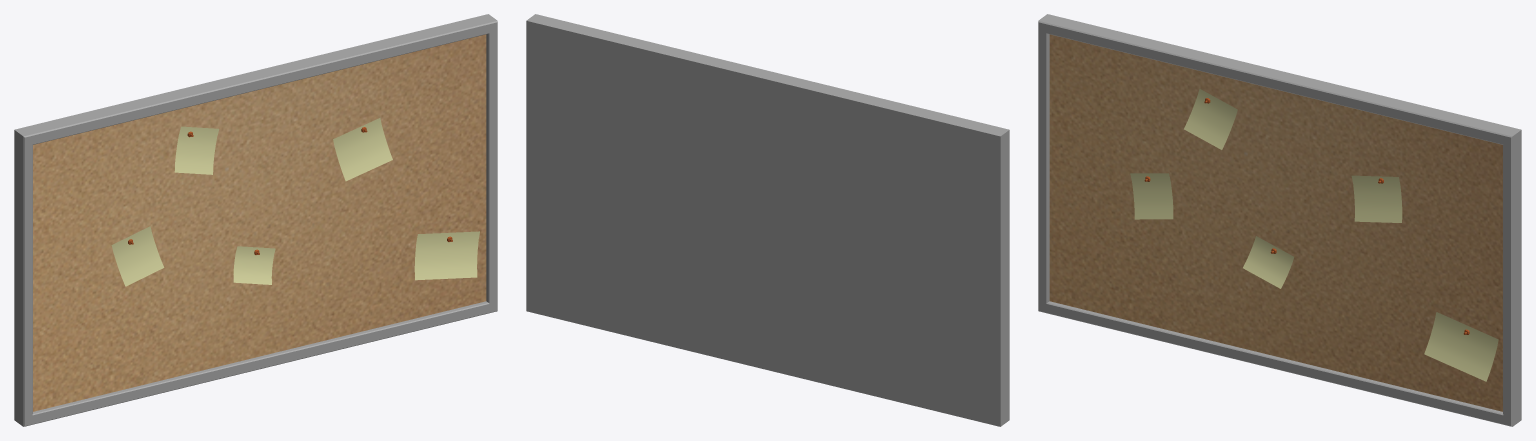
The model's file is Lavagnetta.fbx.
3 renders of one model, left to right at view 1: azimuth 30°, elevation 25°; view 2: azimuth 150°, elevation 25°; view 3: azimuth 330°, elevation 25°, orthographic.
Visible parts, largest first — view 1: pCube6; view 2: pCube6; view 3: pCube6.
Boxes of the visible parts, x1,y1,x2,y2 form: pCube6: [14, 14, 497, 426]; pCube6: [526, 14, 1009, 426]; pCube6: [1038, 14, 1521, 426].
Bounding box in the file's own units: 11.89 × 6.96 × 0.5264.
Materials: 2 (2 with a texture image).
